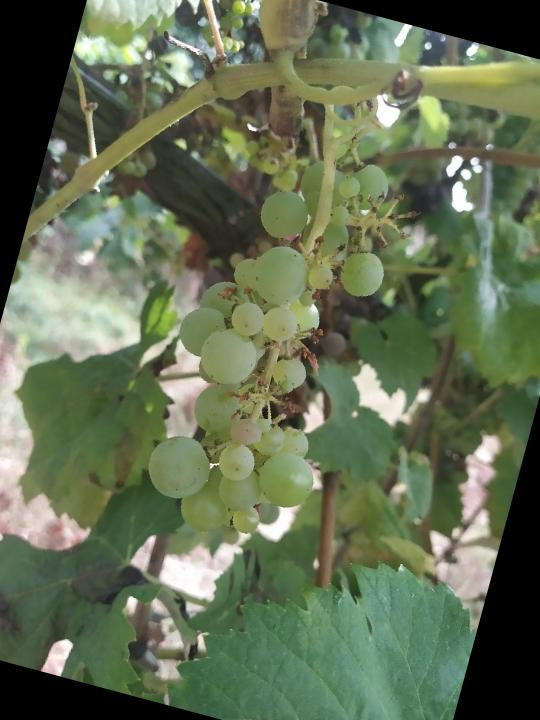grape: (125, 125, 414, 567)
